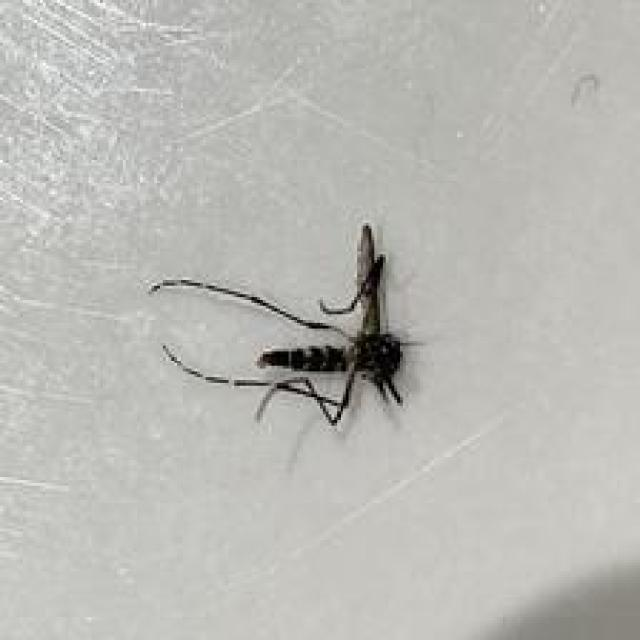Aedes albopictus: (147, 221, 424, 430)
